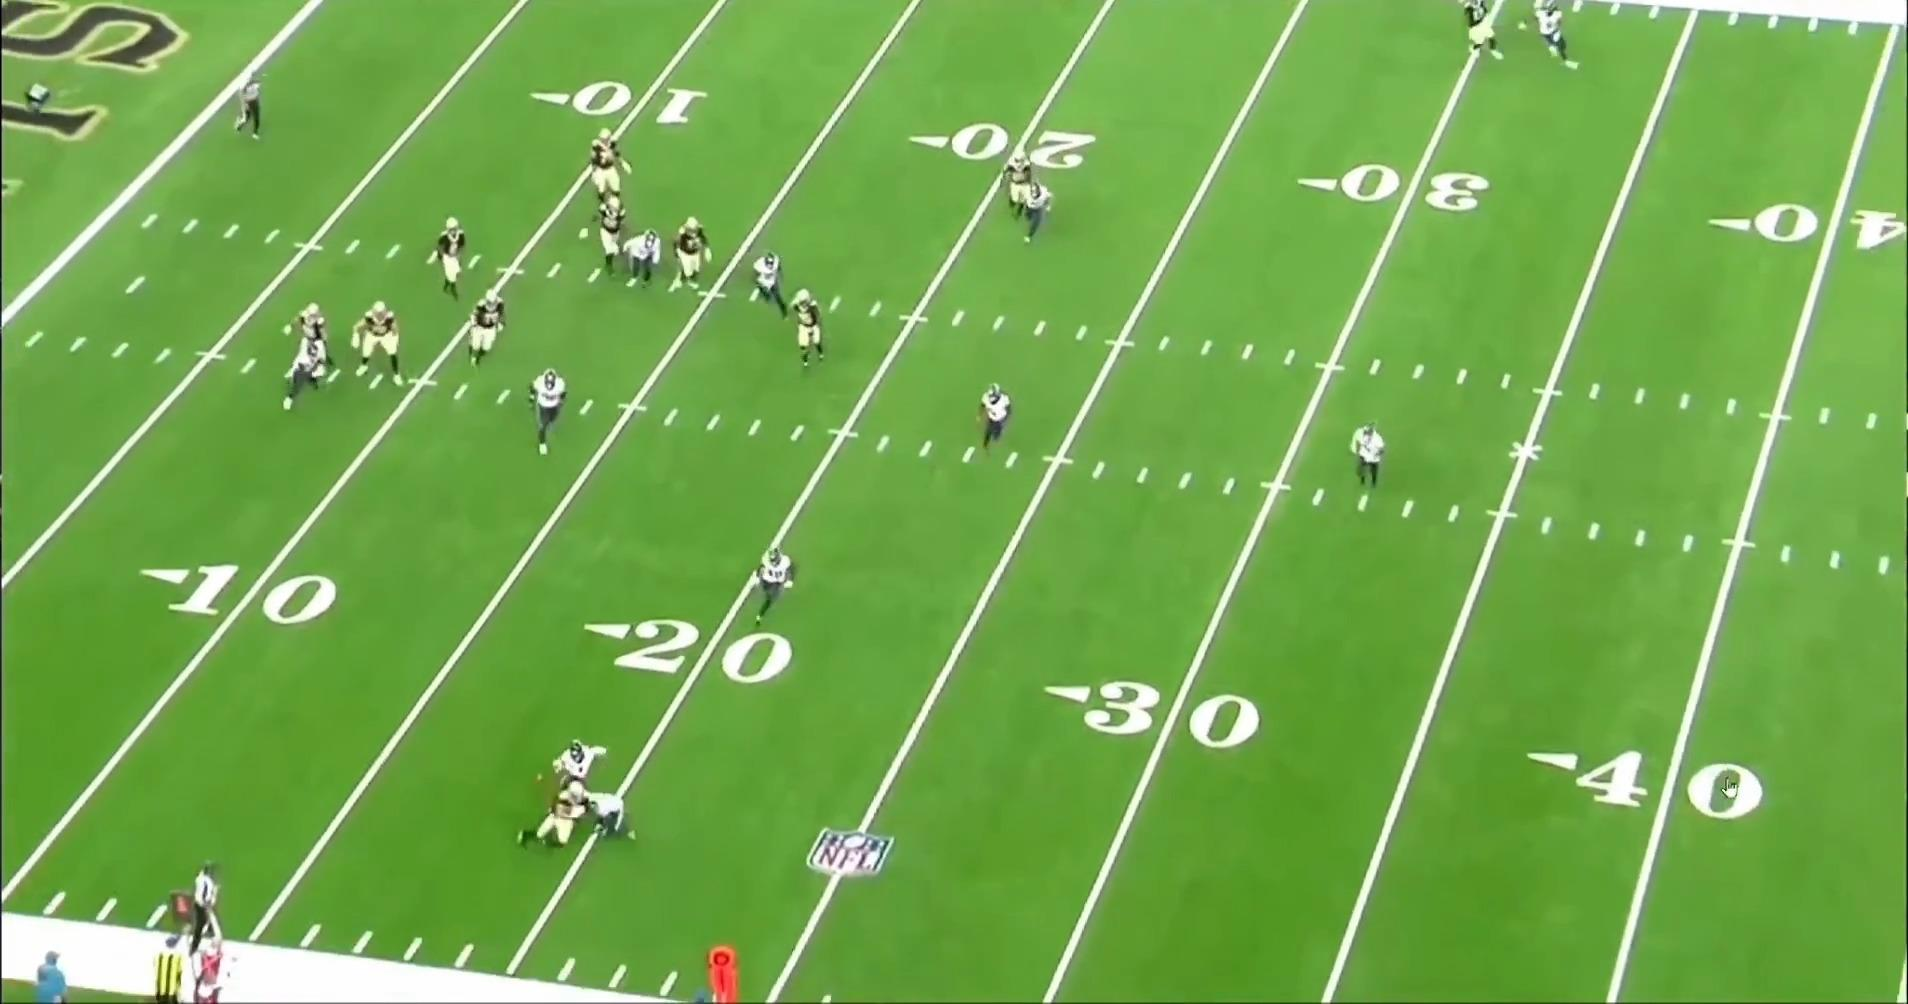player: (357, 301, 414, 390), (519, 782, 591, 851), (743, 549, 796, 631), (461, 291, 514, 372), (291, 301, 342, 384), (543, 735, 618, 791), (528, 364, 572, 458), (666, 217, 716, 297), (278, 338, 323, 421), (1529, 3, 1578, 77), (583, 785, 641, 847), (435, 213, 475, 301), (1000, 146, 1037, 239), (791, 287, 831, 372), (748, 247, 795, 319), (1015, 171, 1056, 253), (592, 194, 634, 273), (1457, 1, 1504, 68), (621, 228, 669, 292), (1342, 422, 1384, 495), (588, 129, 634, 191), (979, 381, 1017, 454)
ref: (188, 860, 233, 953), (230, 70, 266, 146)
